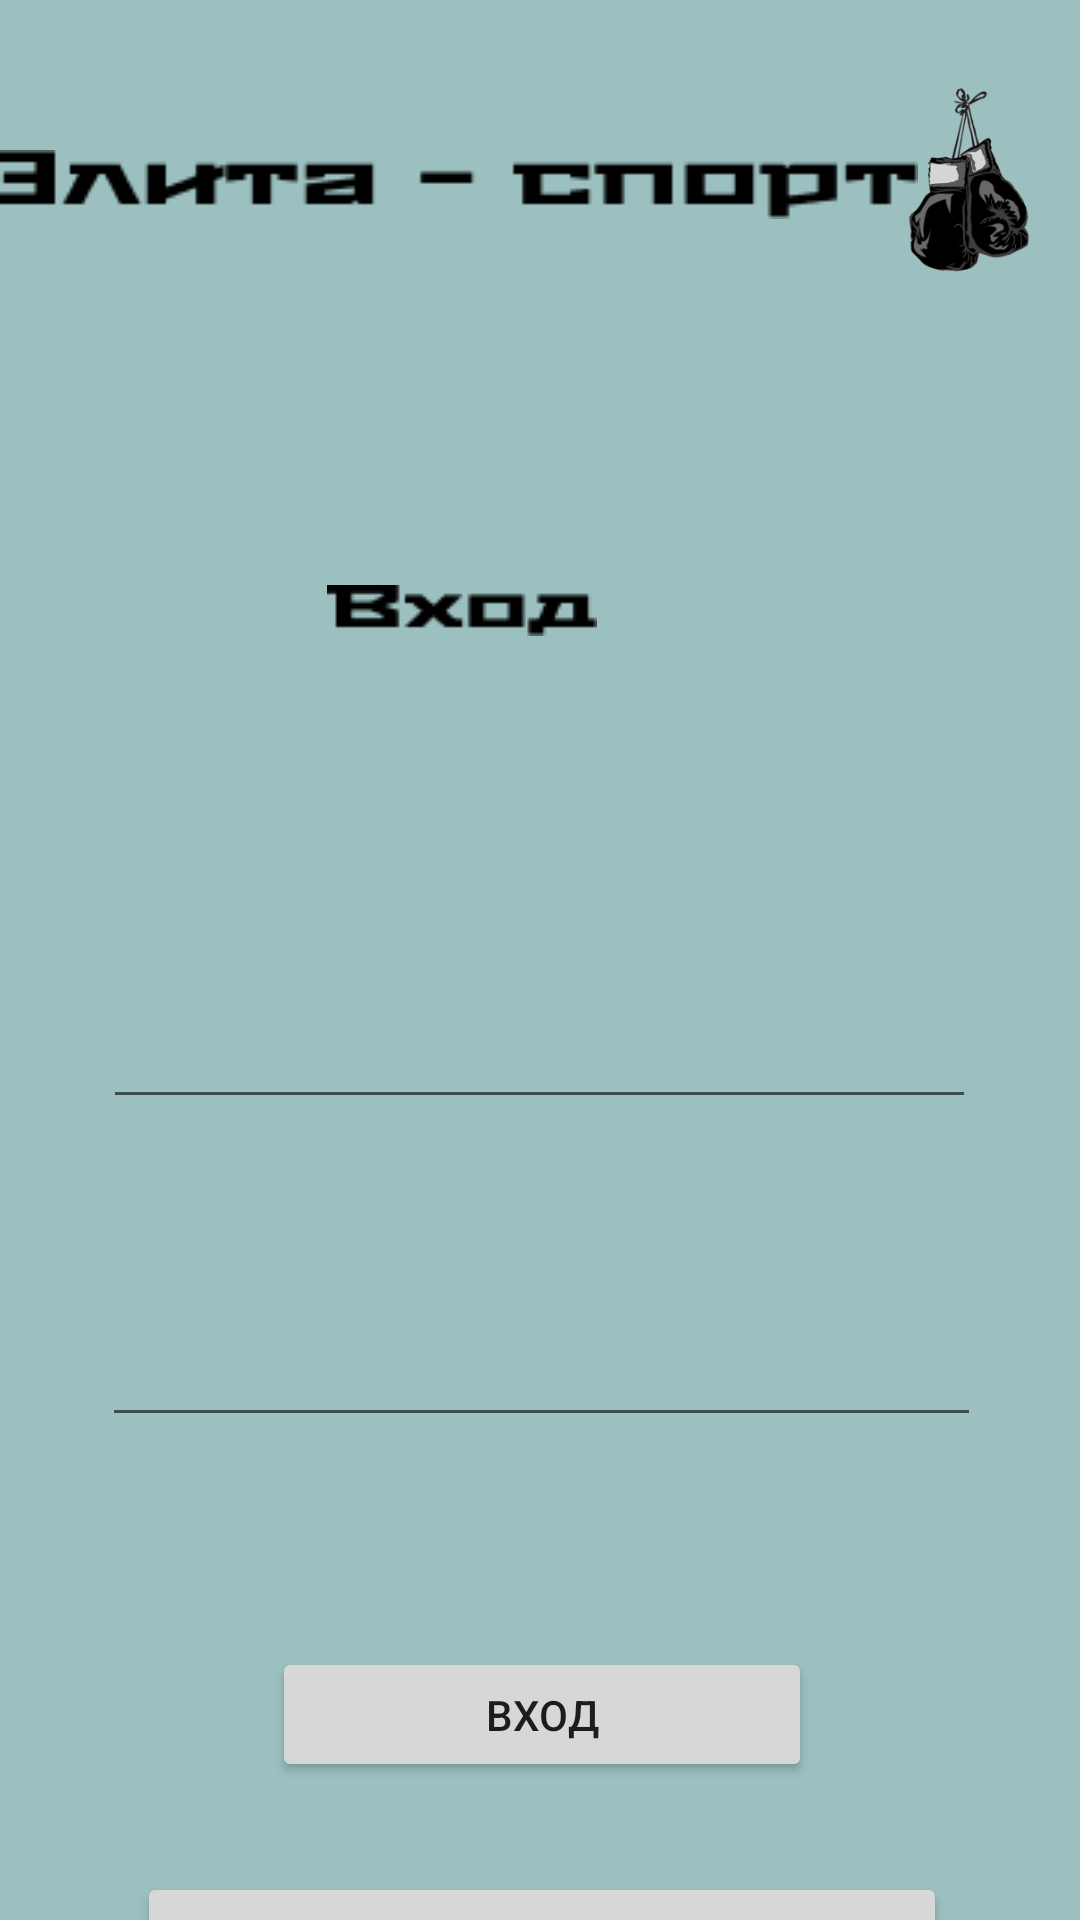

Point at icon controls on the screen. Image size 1080x1920, points as point (x, y).
boxing: point (969, 179)
